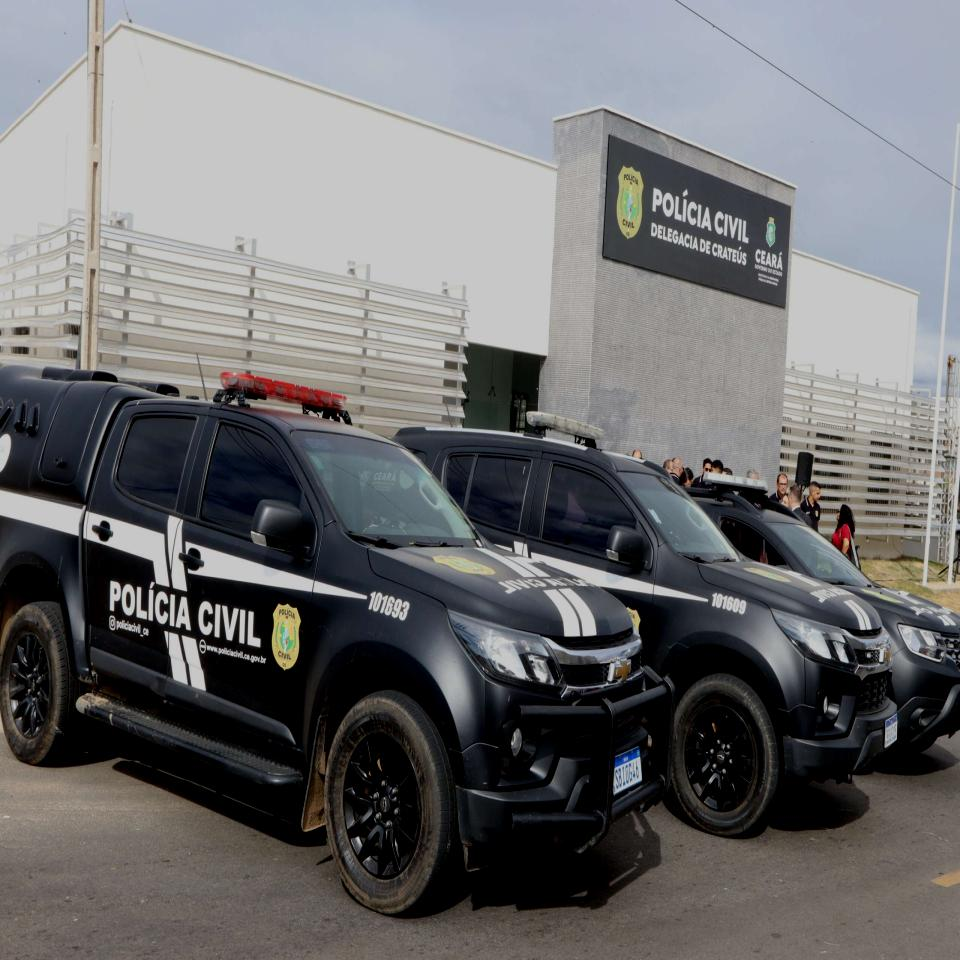viatura: (0, 358, 675, 917), (394, 411, 900, 836), (680, 470, 960, 754)
